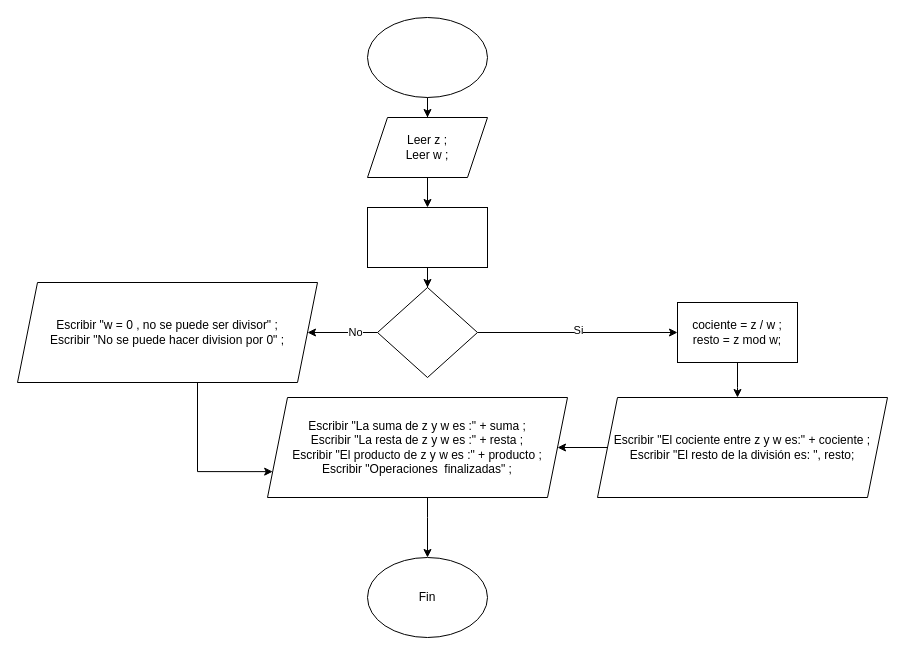
Some shapes in this 905 by 655 pixel diagram are drawn without their labels. The shapes that lost their labels are listed below. From the top down, each one's centre as x and y in pixels, then its label:
At point 427,57: "Inicio".
At point 427,237: "suma = z + w ; resta = z - w ; producto = z * w ;".
At point 427,332: "¿w != 0?".
